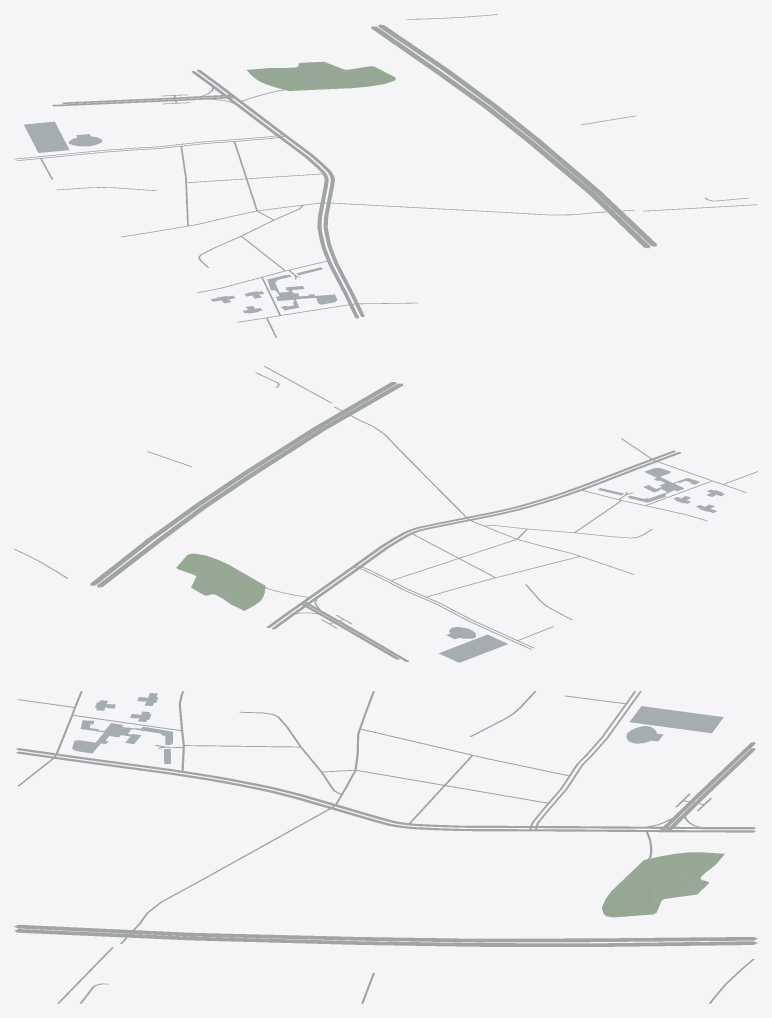
The model's file is -19_20-known-coarse.glb.
The picture shows the model from 3 angles, top to bottom: view 1: azimuth 30°, elevation 25°; view 2: azimuth 150°, elevation 25°; view 3: azimuth 270°, elevation 25°; orthographic projection. The views are drawn at different scales.
Size of the model in its own units: 1002 by 0.15 by 1007.
